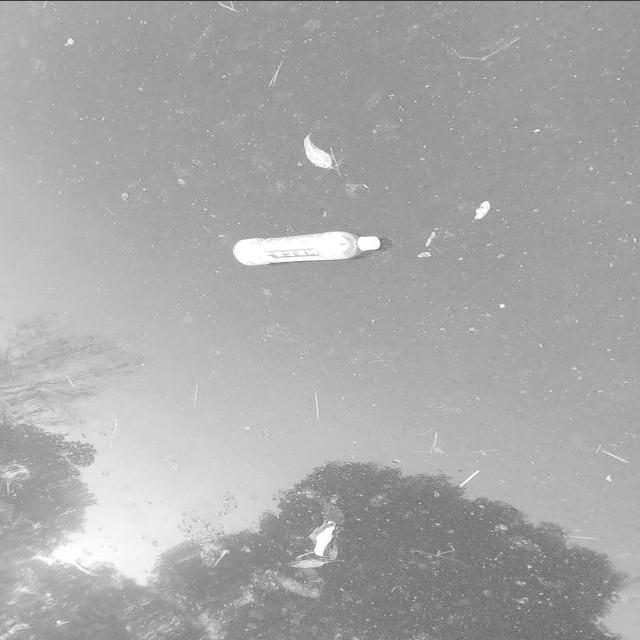bottle: (226, 206, 392, 288)
